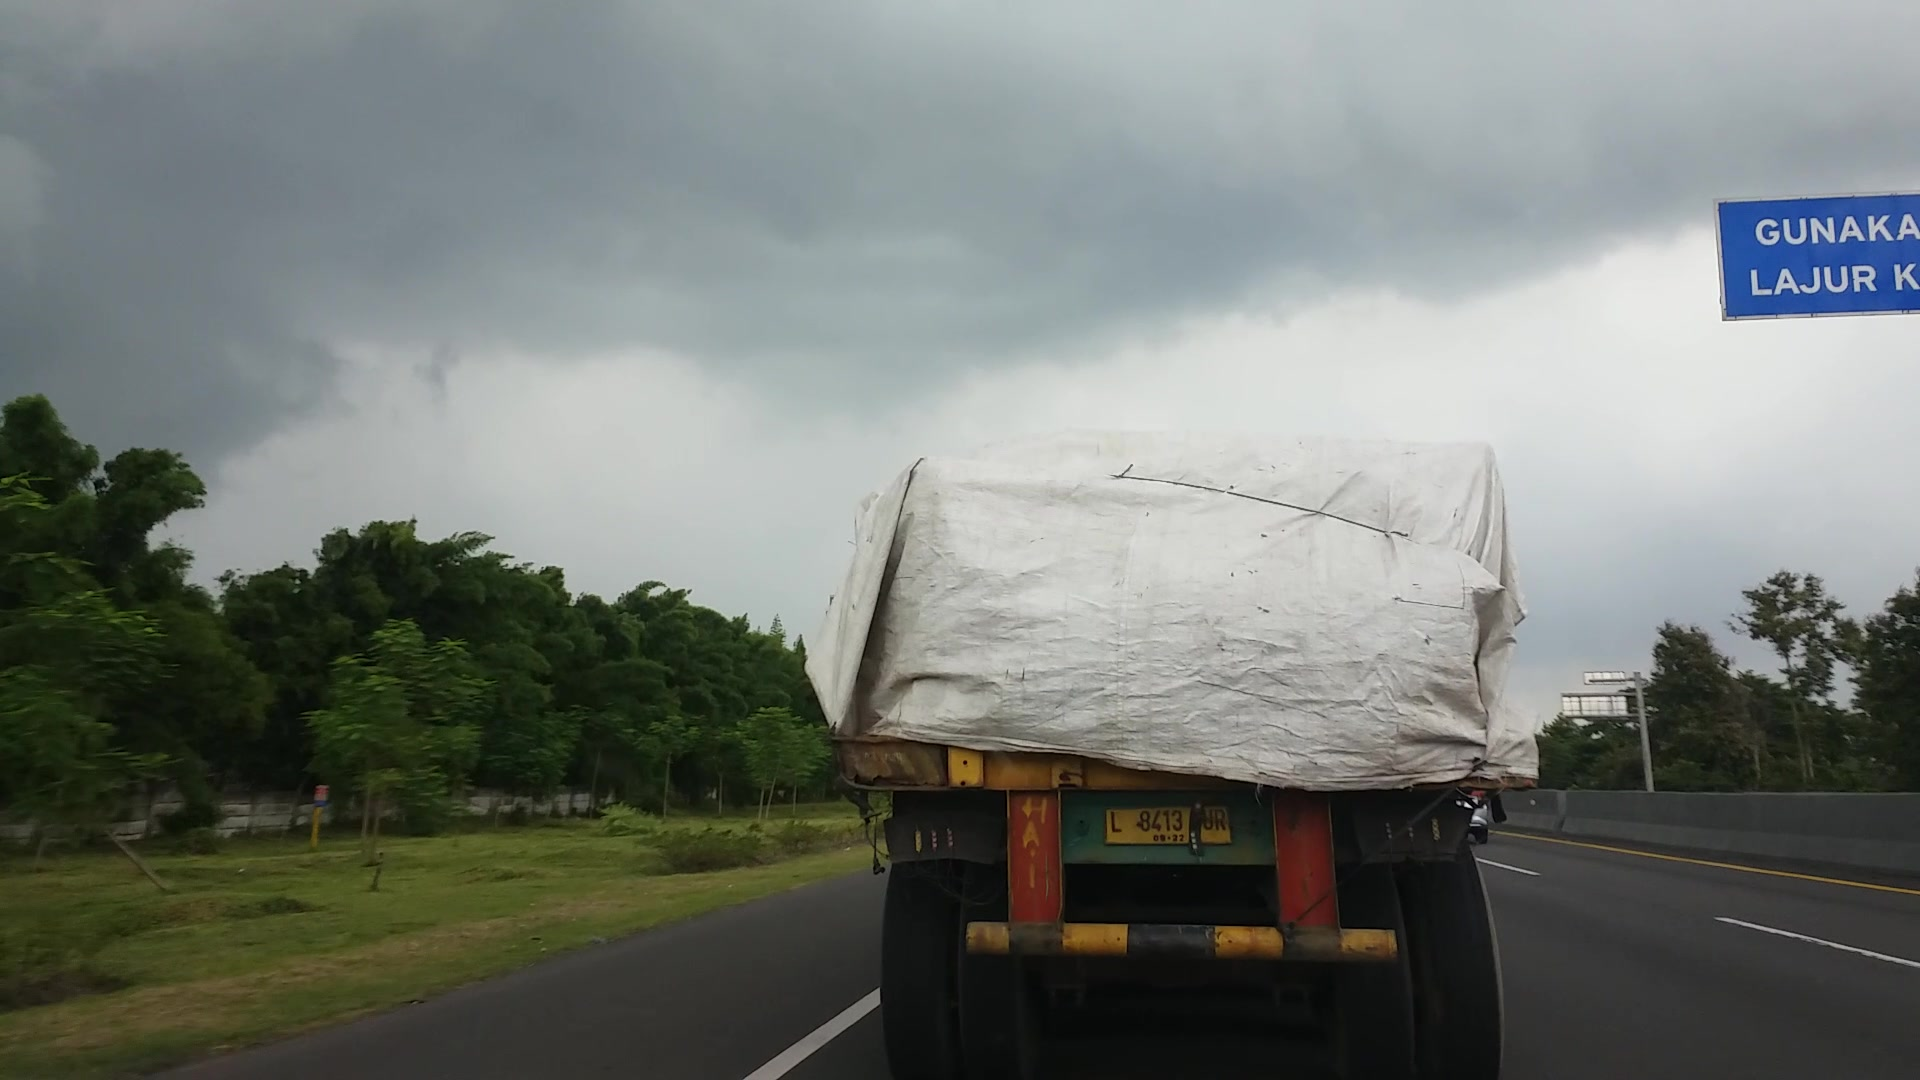plate_positive: (1105, 804, 1232, 845)
